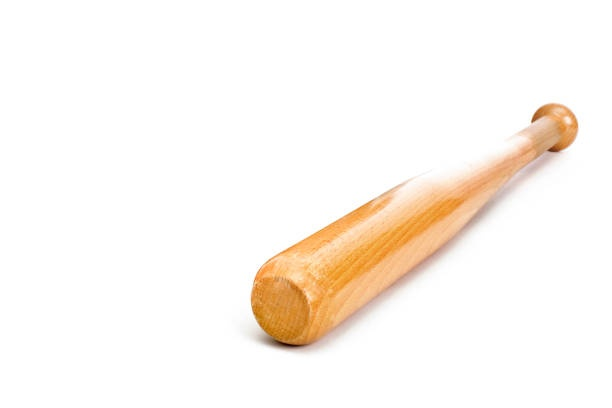bita: (246, 109, 566, 355)
